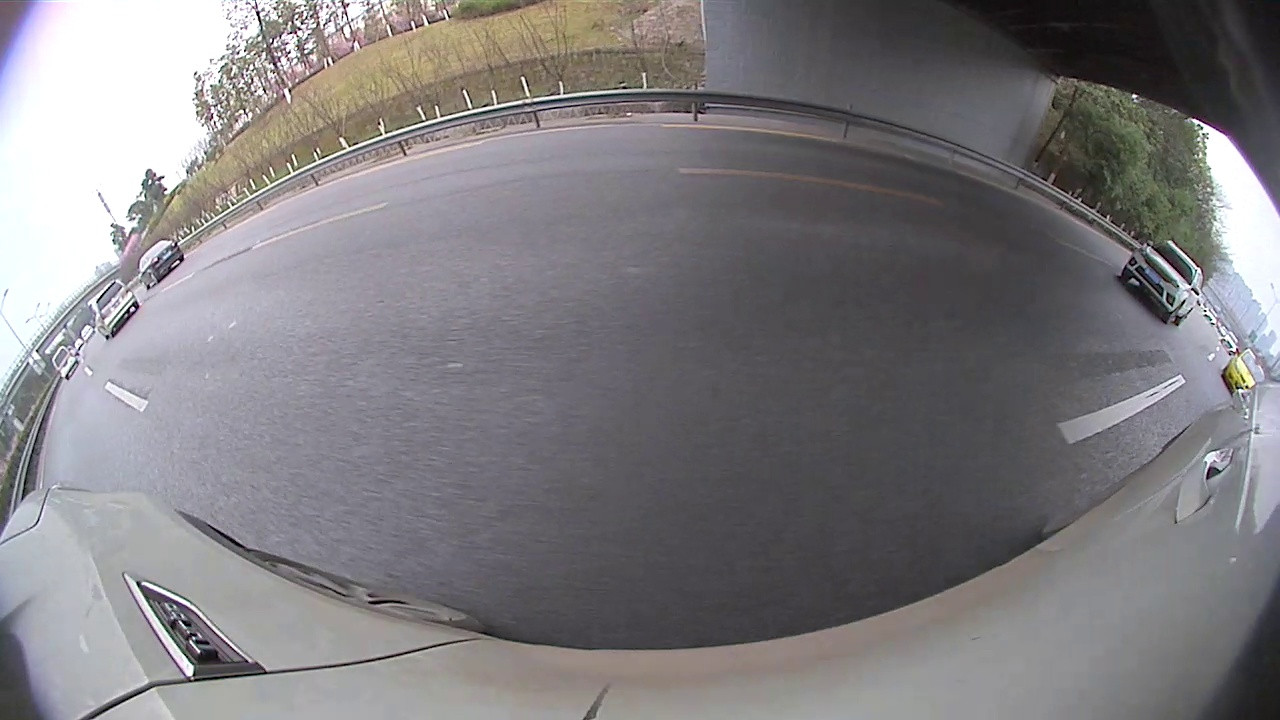car: (911, 176, 1279, 427), (375, 149, 540, 244), (606, 132, 739, 227), (535, 160, 590, 198), (737, 151, 777, 200), (911, 188, 954, 216)
front: (922, 222, 969, 274), (528, 186, 544, 215)
rear: (1128, 331, 1200, 417), (482, 193, 503, 233)
